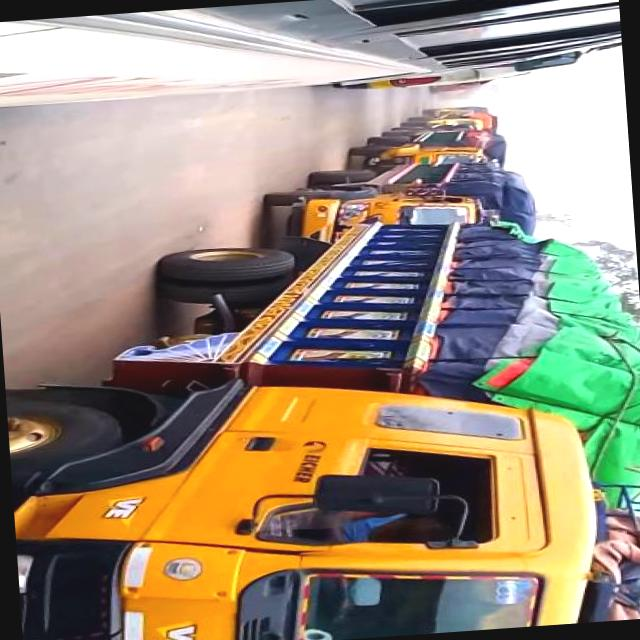bus: (0, 0, 623, 111)
truck: (1, 207, 640, 640), (262, 152, 539, 254), (348, 120, 508, 168)
